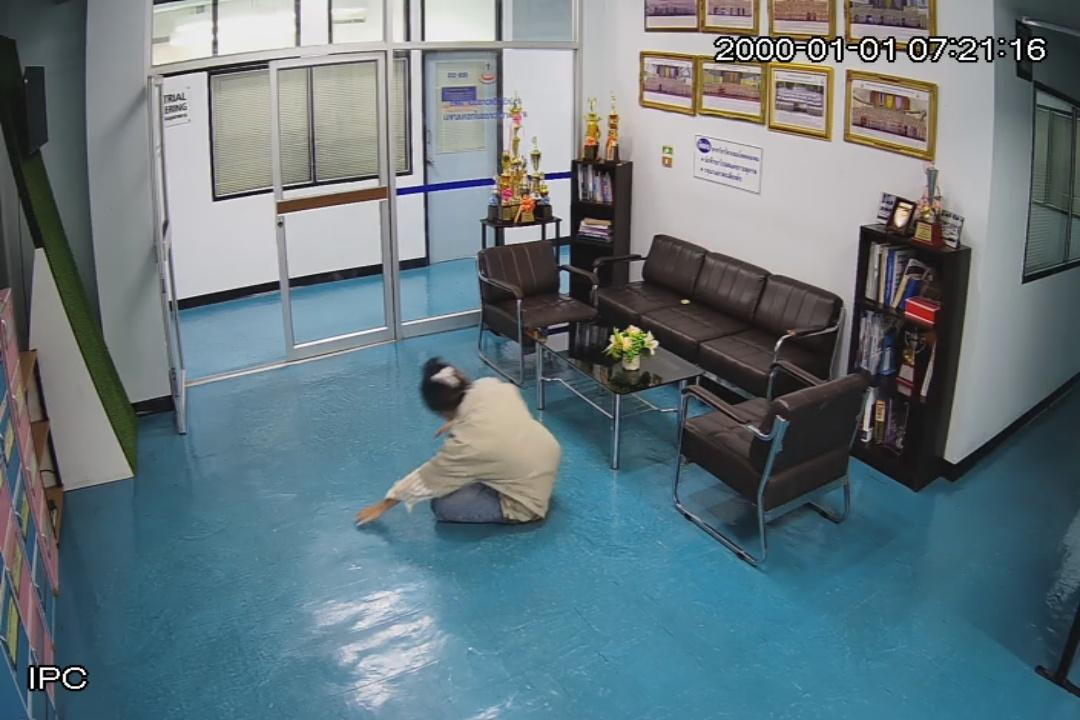fall: (358, 357, 563, 529)
